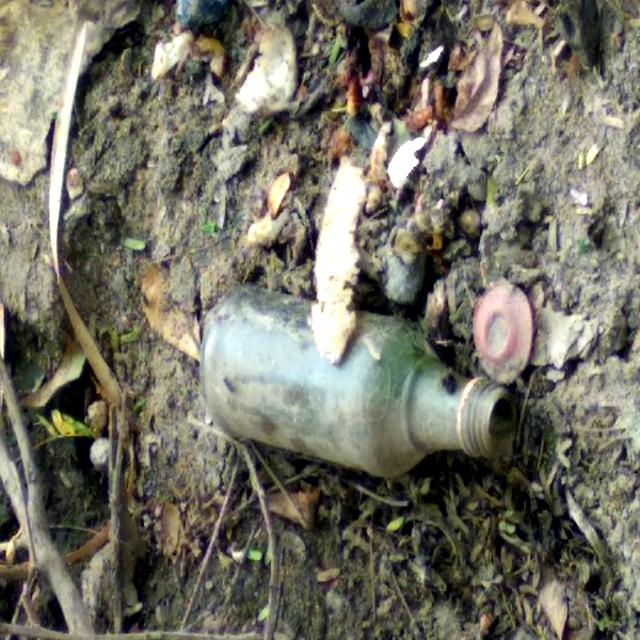Glass: (111, 254, 272, 640)
